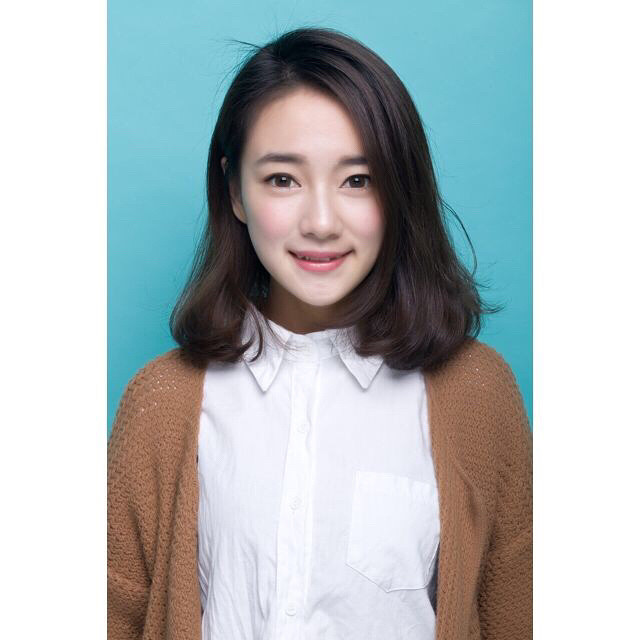unmask: (245, 98, 396, 308)
